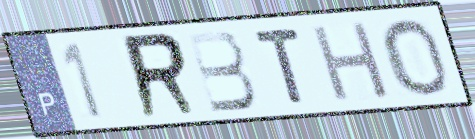1: (59, 40, 107, 122)
B: (183, 28, 260, 115)
H: (307, 19, 394, 105)
O: (377, 16, 452, 98)
R: (119, 29, 203, 122)
T: (249, 25, 308, 106)
